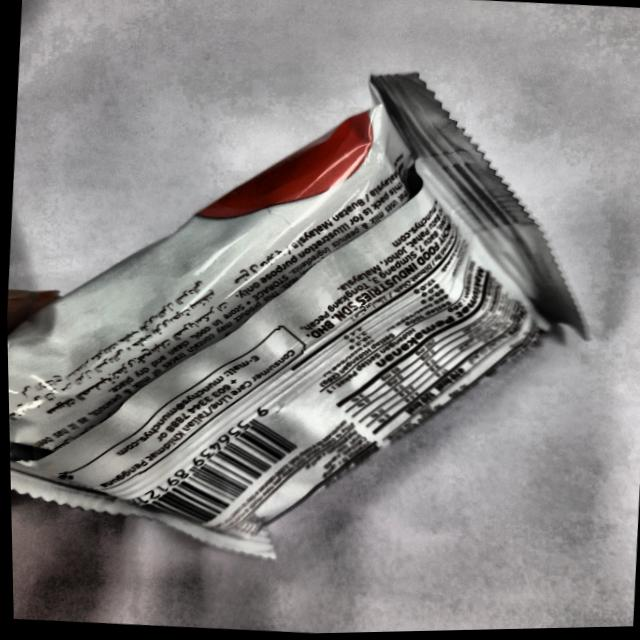Plastic: (1, 44, 611, 573)
